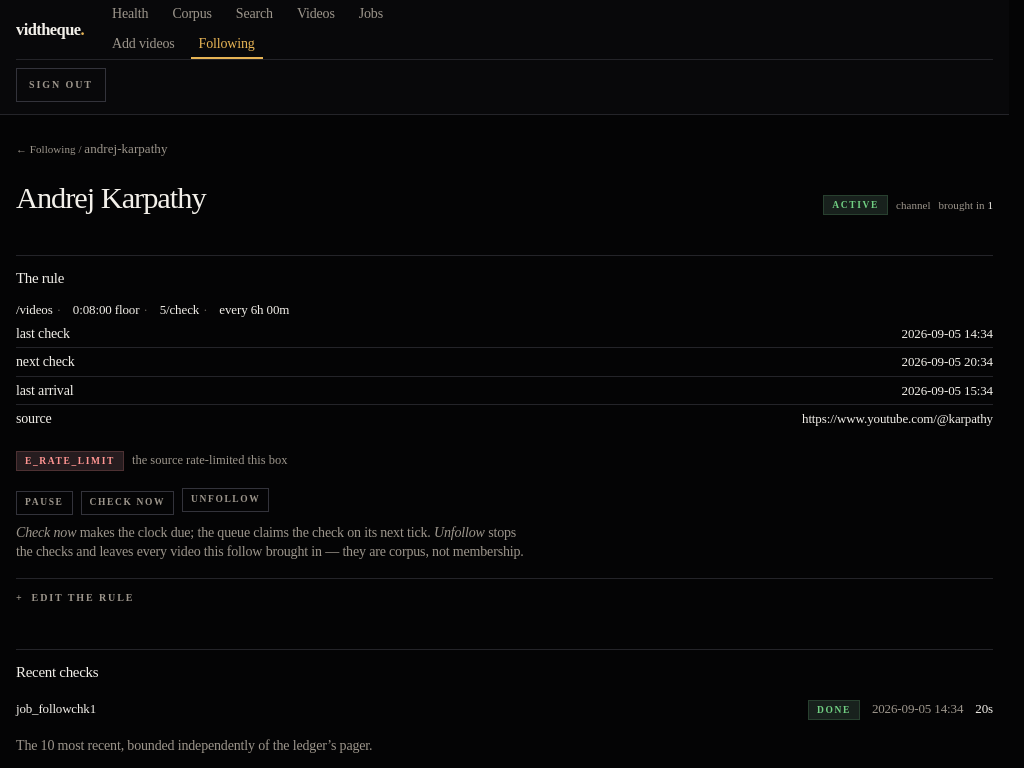
Test case: one follow's page › the five writes › asks before it unfollows, then lands on the list
The width and height of the screenshot is (1024, 768).
Expected: the heading "Andrej Karpathy" is shown, [16, 183, 206, 214]
Click the button "Unfollow": (226, 500) [182, 488, 269, 512]
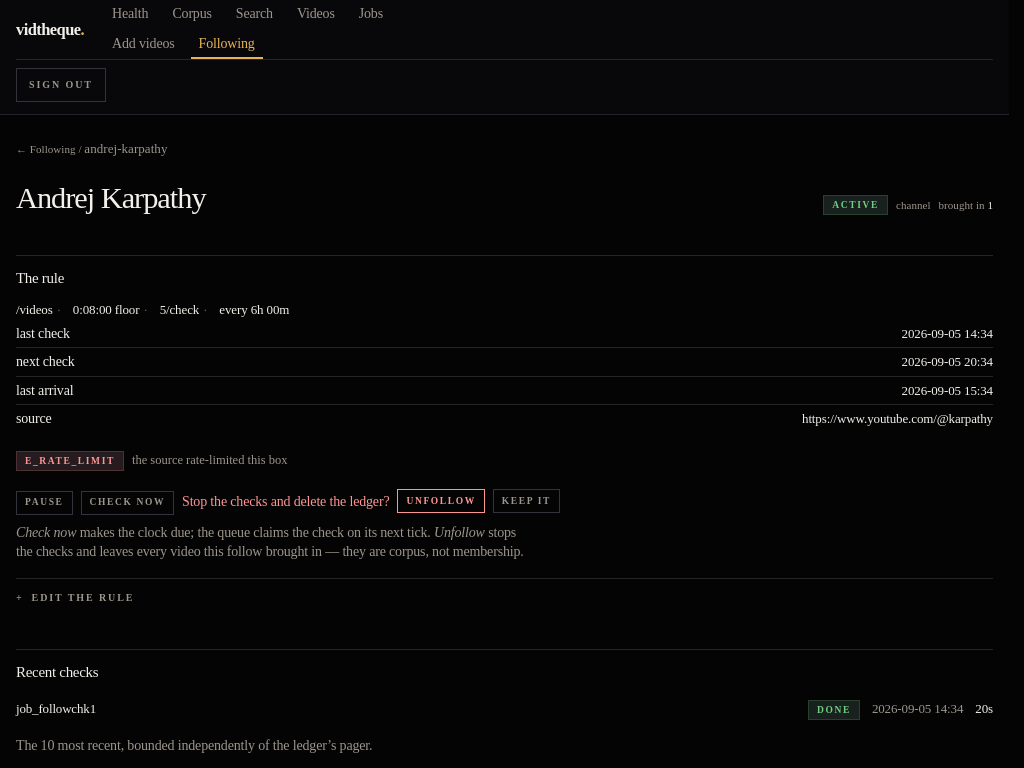
Expected: the text "Stop the checks and delete the ledger?" is shown, [182, 492, 389, 511]
Click the button "Unfollow": (441, 501) [397, 489, 485, 513]
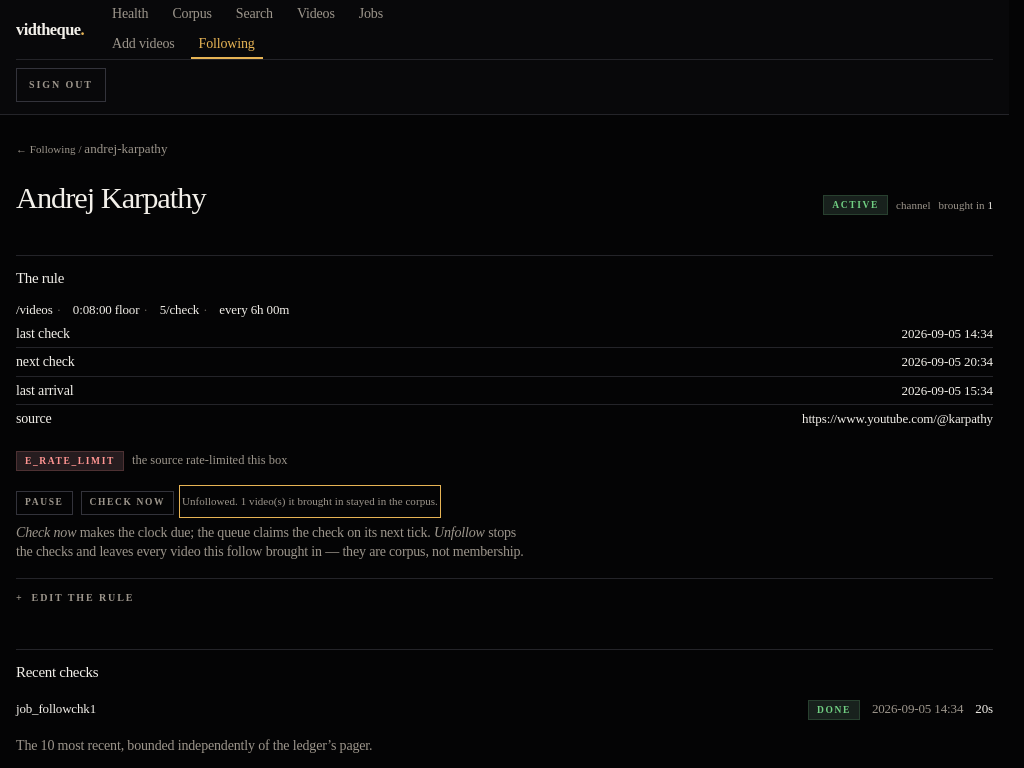
Expected: the text "Unfollowed. 1 video(s) it brought in stayed in the corpus." is shown, [182, 493, 438, 510]
